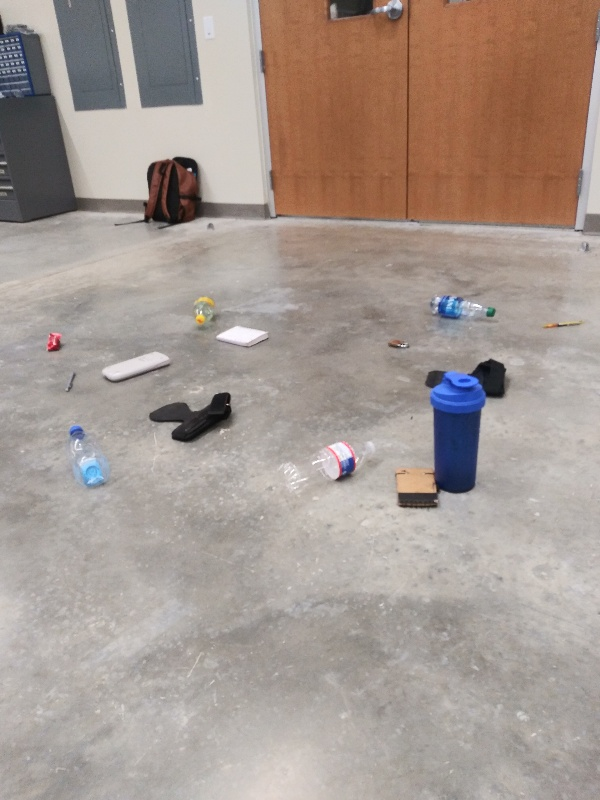bottle: (274, 437, 380, 500), (63, 421, 114, 490), (425, 293, 499, 324), (187, 289, 218, 333)
